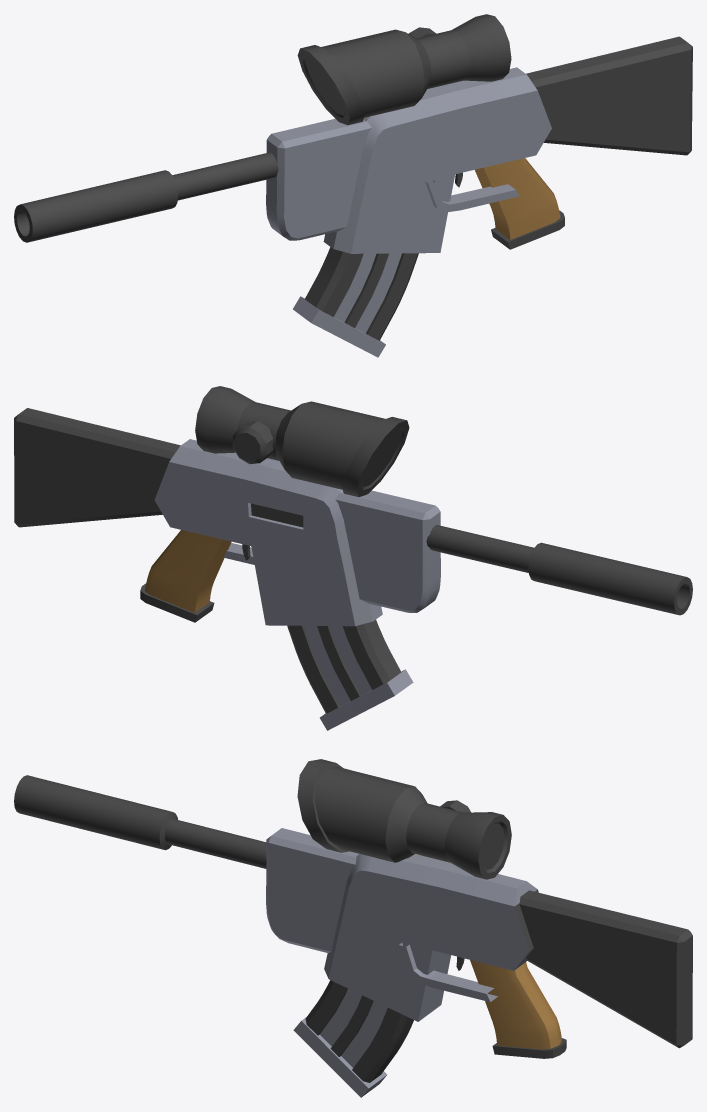
Rendered from quaternius-toon-shooter-game-sniper-2.glb.
3 renders of one model, top to bottom at view 1: azimuth 30°, elevation 25°; view 2: azimuth 150°, elevation 25°; view 3: azimuth 330°, elevation 25°, orthographic.
Visible parts, largest first — view 1: Sniper_2; view 2: Sniper_2; view 3: Sniper_2.
Boxes of the visible parts, <box> form: Sniper_2: <box>14,14,692,357</box>; Sniper_2: <box>14,386,692,730</box>; Sniper_2: <box>14,759,692,1097</box>.
Bounding box in the file's own units: 1.74 × 0.7853 × 0.194.
